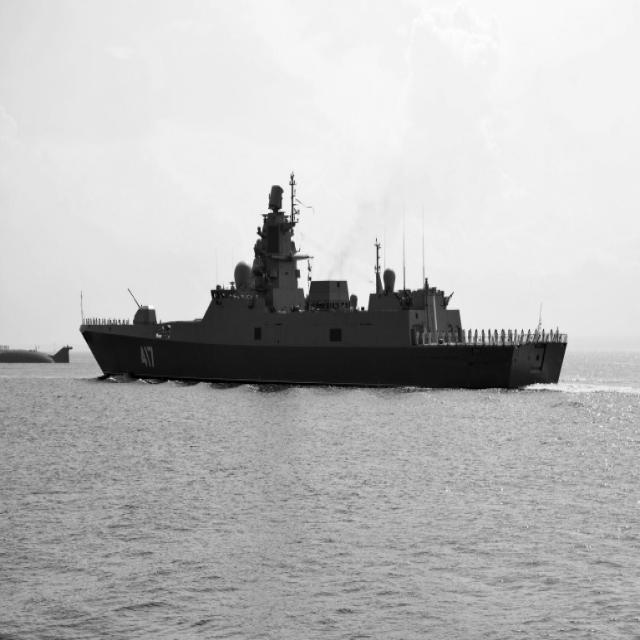Fragata: (80, 175, 572, 389)
